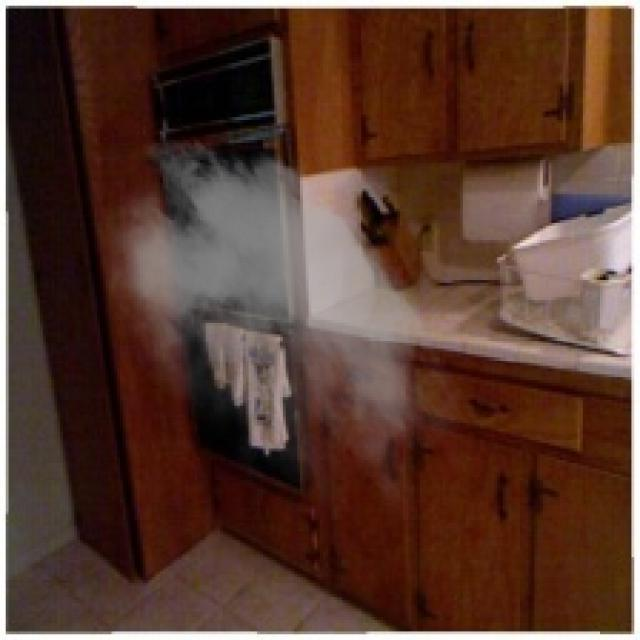Smoke: (86, 125, 468, 520)
